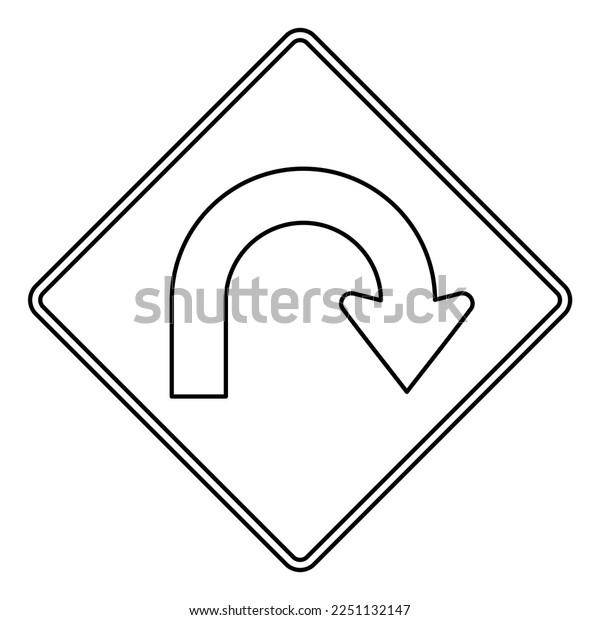Right Hair Pin Bend: (59, 33, 582, 546)
